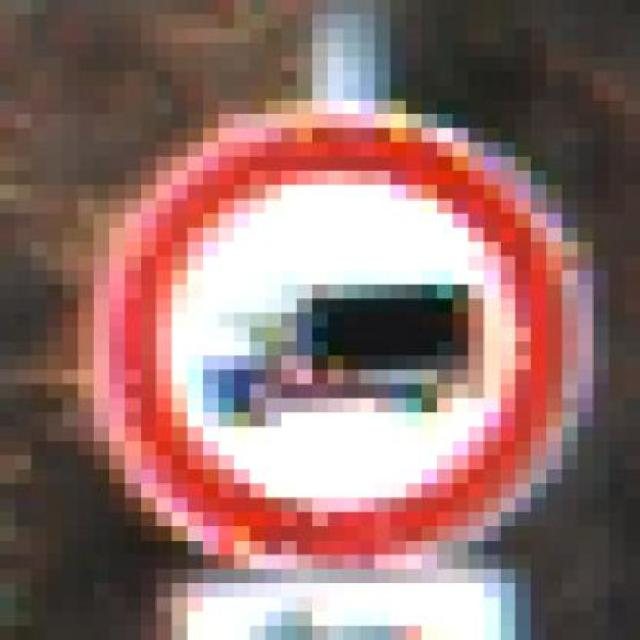Truck traffic is prohibited: (62, 85, 608, 583)
